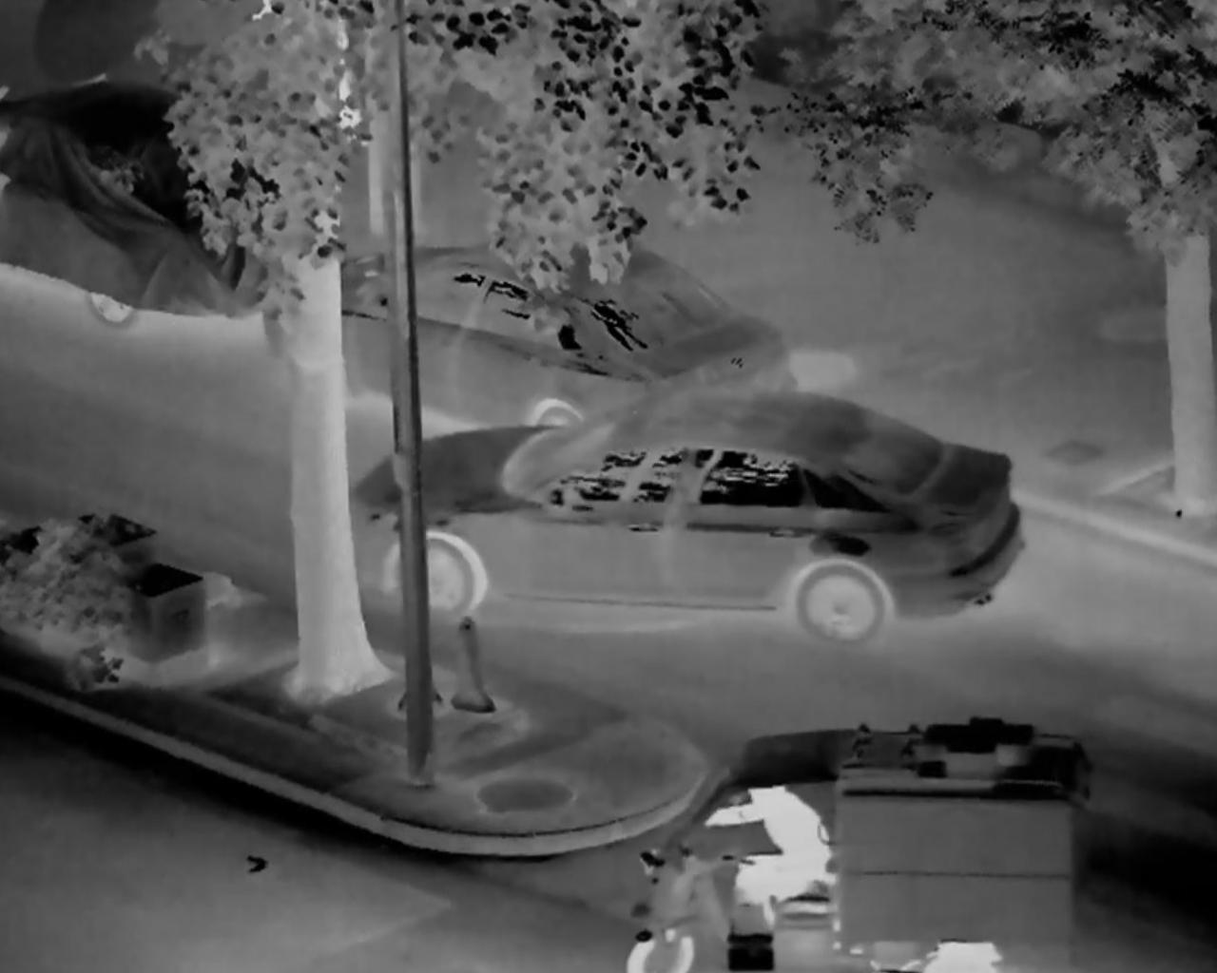person: (709, 779, 842, 936)
